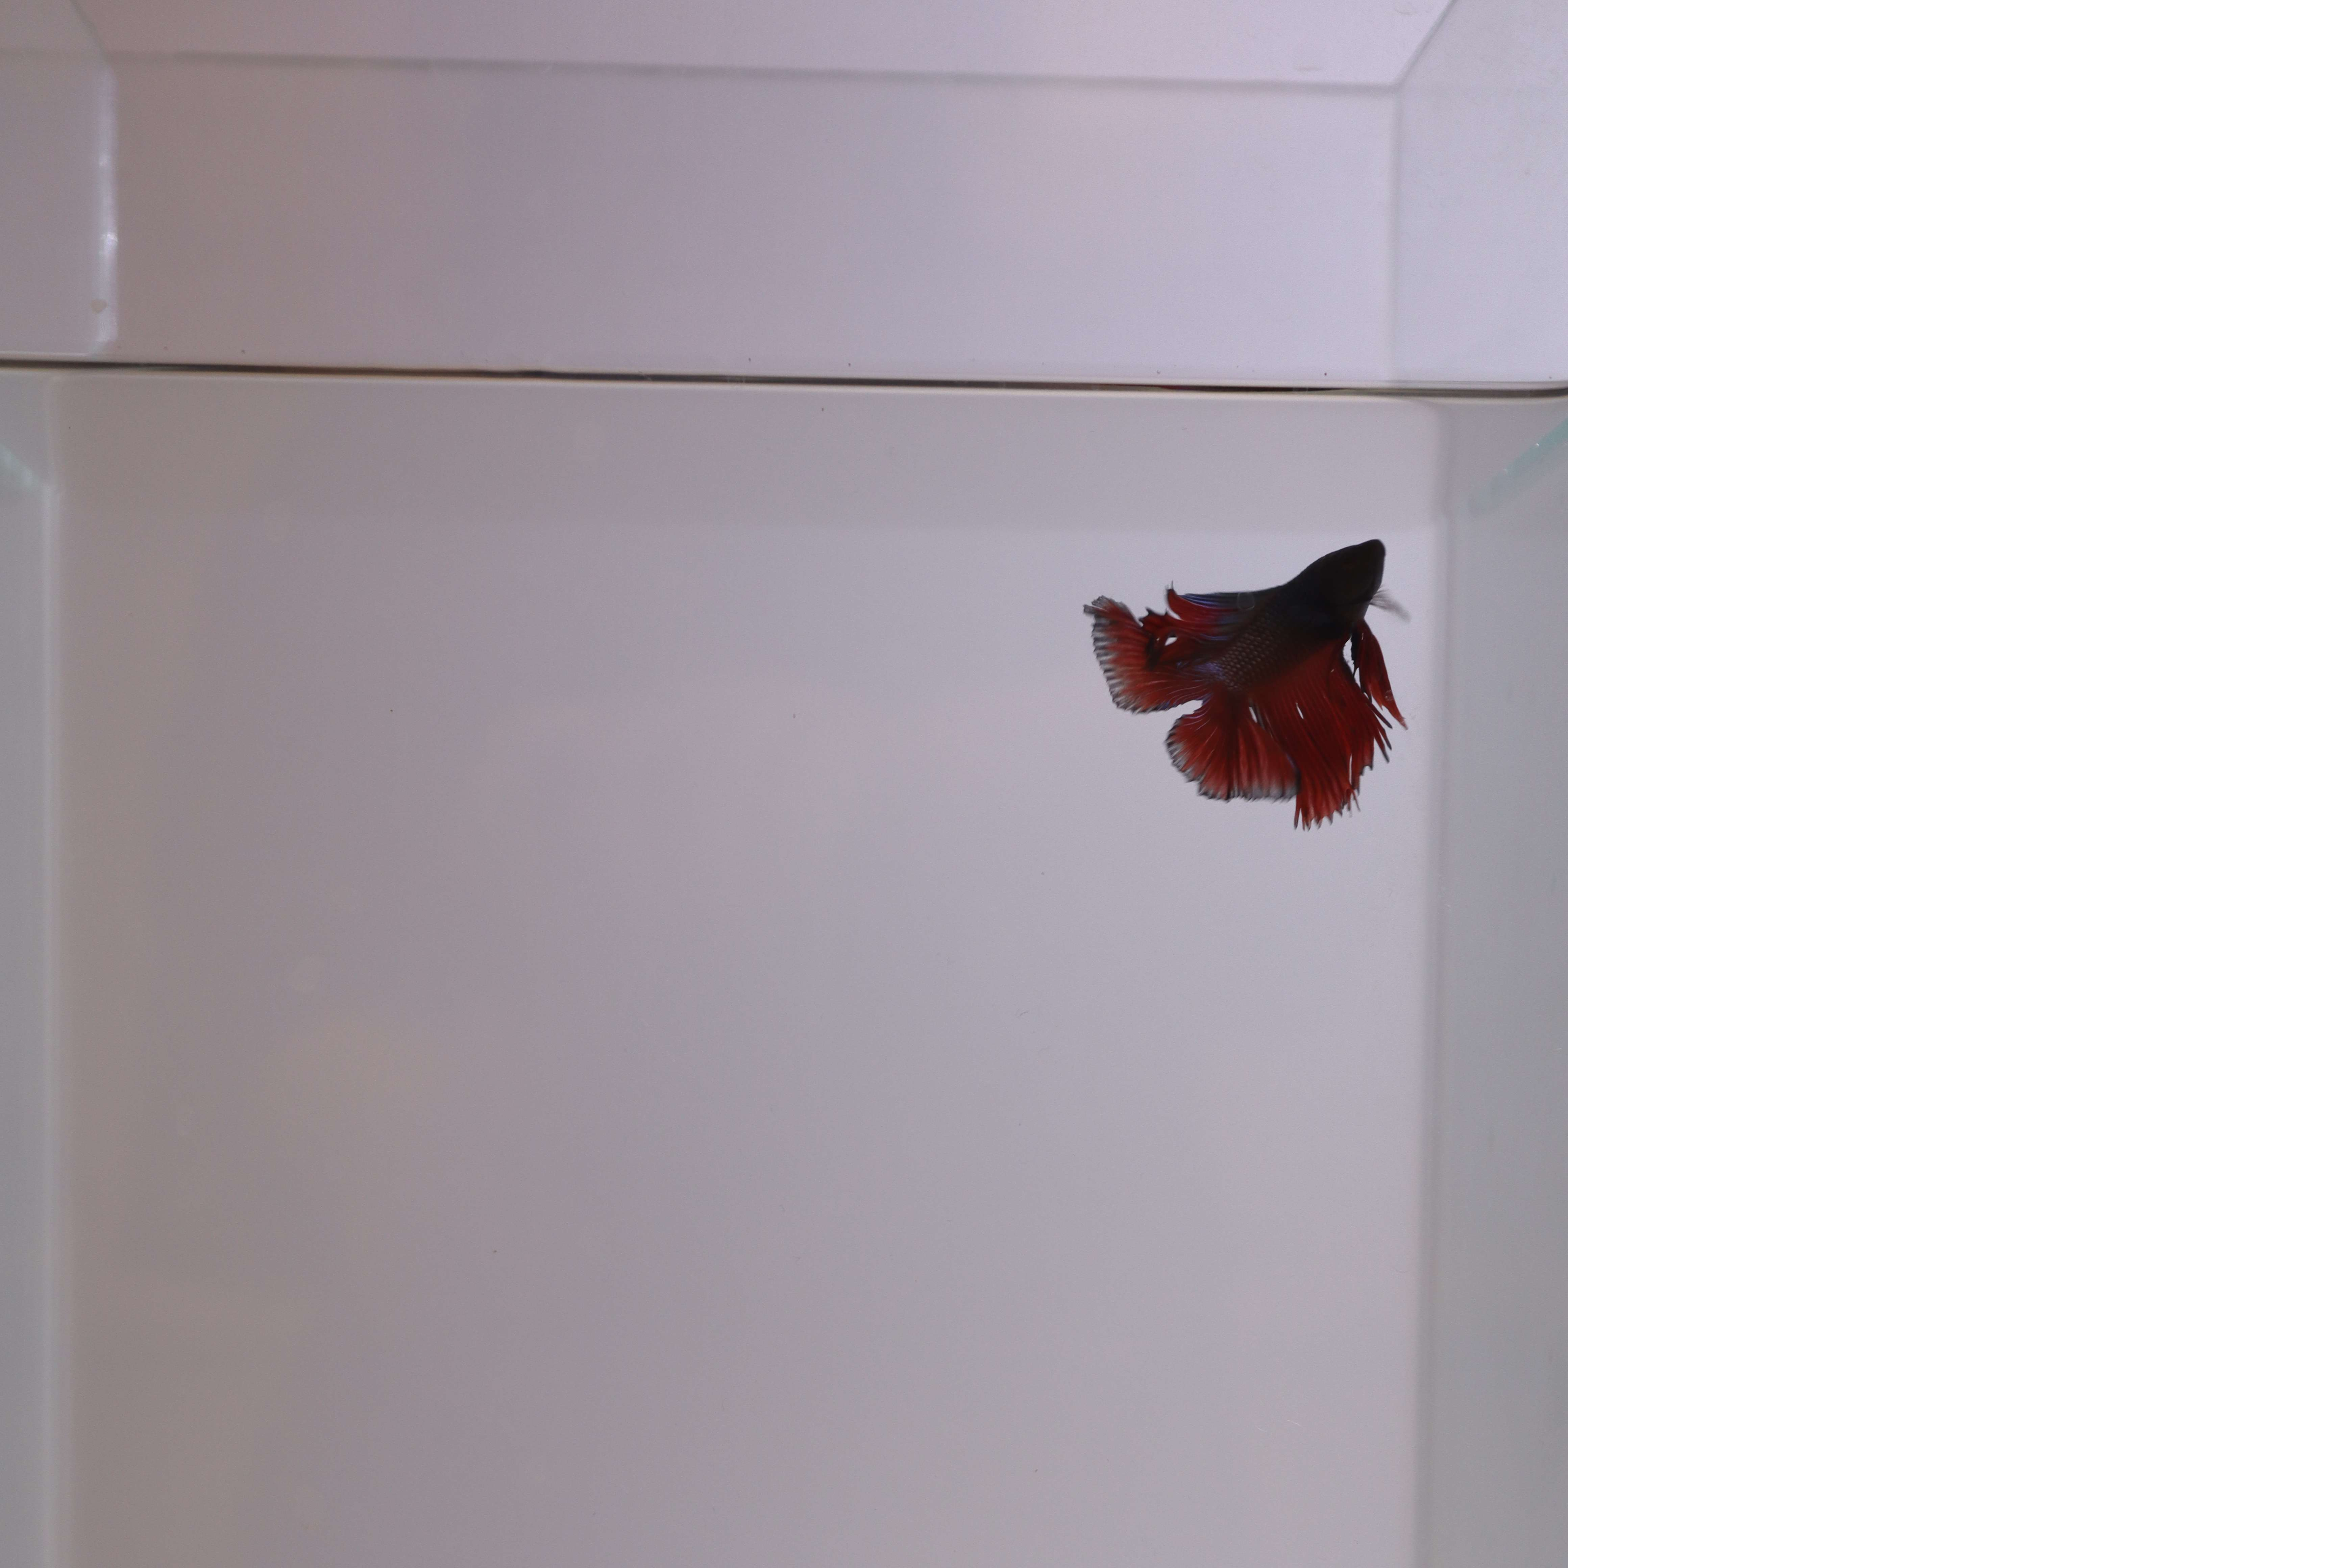fish: (1067, 534, 1428, 830)
